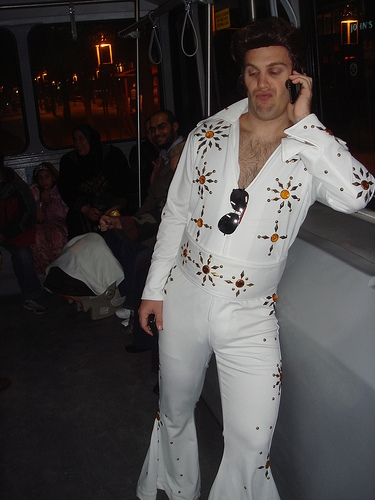phone: (289, 71, 318, 110)
talk: (246, 60, 316, 123)
